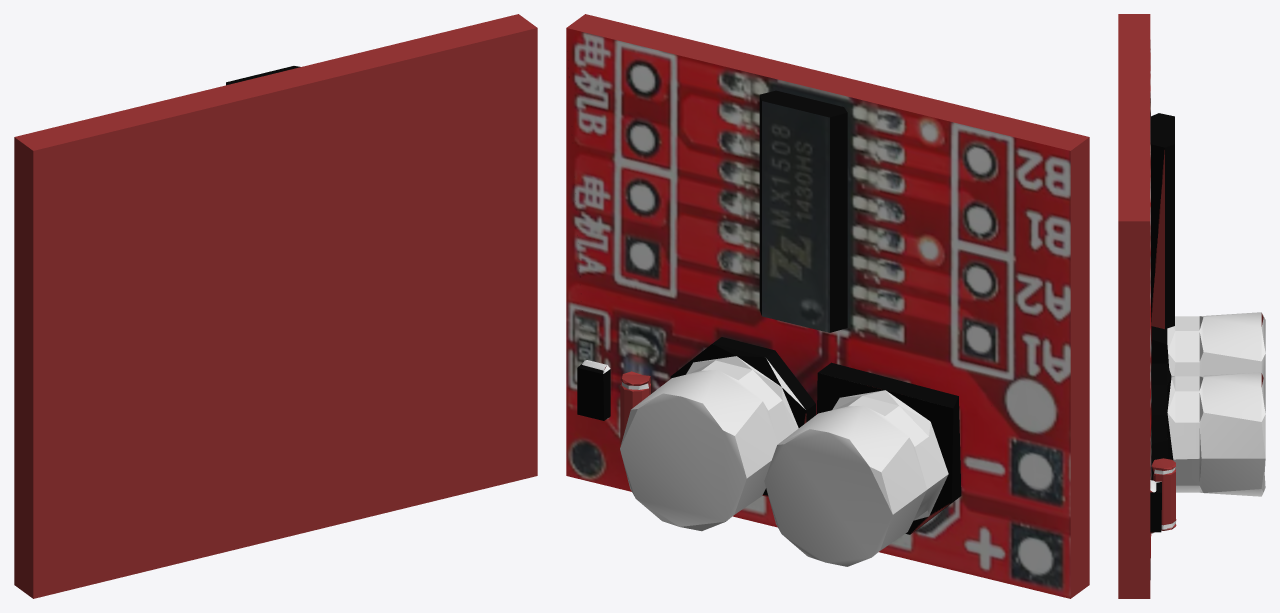
The model's file is SM_Driver.fbx.
3 views of the same model, side by side, from view 1: azimuth 30°, elevation 25°; view 2: azimuth 150°, elevation 25°; view 3: azimuth 270°, elevation 25° (orthographic). The views are drawn at different scales.
Parts seen in each view (by area): view 1: Driver.001; view 2: Driver.001; view 3: Driver.001.
Part boxes in pixels (box(x1,y1,x2,y2)): Driver.001: box(14, 14, 537, 598); Driver.001: box(566, 14, 1089, 598); Driver.001: box(1118, 14, 1265, 598).
Bounding box in the file's own units: 2.45 × 2.08 × 0.735.
Materials: 1 (1 with a texture image).
